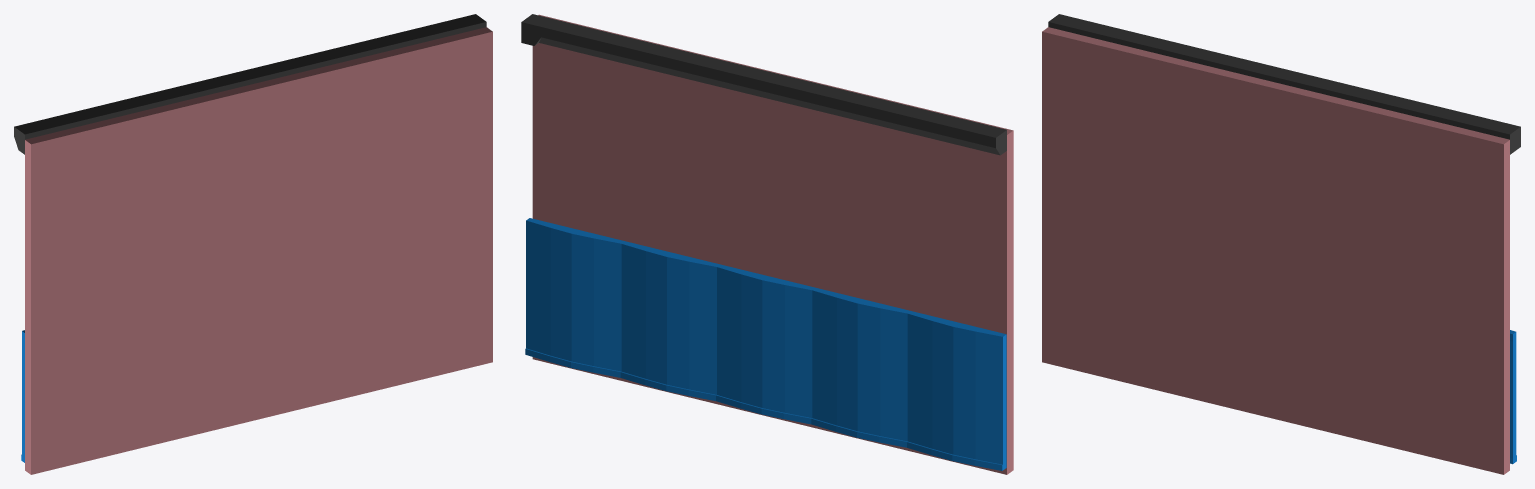
Rendered from Wall 7.fbx.
The picture shows the model from 3 angles, left to right: view 1: azimuth 30°, elevation 25°; view 2: azimuth 150°, elevation 25°; view 3: azimuth 330°, elevation 25°; orthographic projection. The views are drawn at different scales.
Parts seen in each view (by area): view 1: Node 0; view 2: Node 0; view 3: Node 0.
Boxes of the visible parts, <box> form: Node 0: <box>14,14,492,474</box>; Node 0: <box>521,14,1013,474</box>; Node 0: <box>1042,14,1520,474</box>.
Size of the model in its own units: 0.3536 by 3.85 by 5.58.
